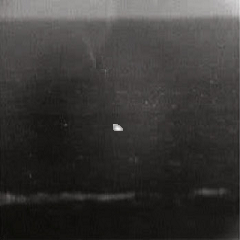Target: (111, 123, 125, 133)
